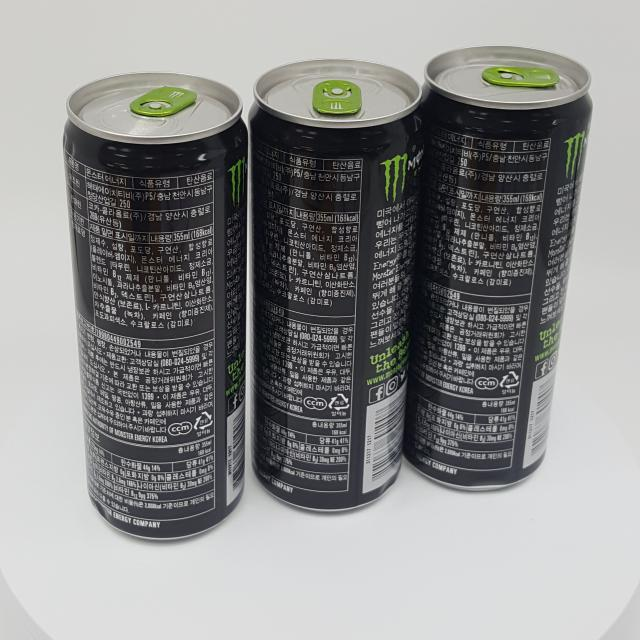--------355ML: (62, 71, 248, 541), (402, 44, 592, 490), (248, 58, 424, 512)
